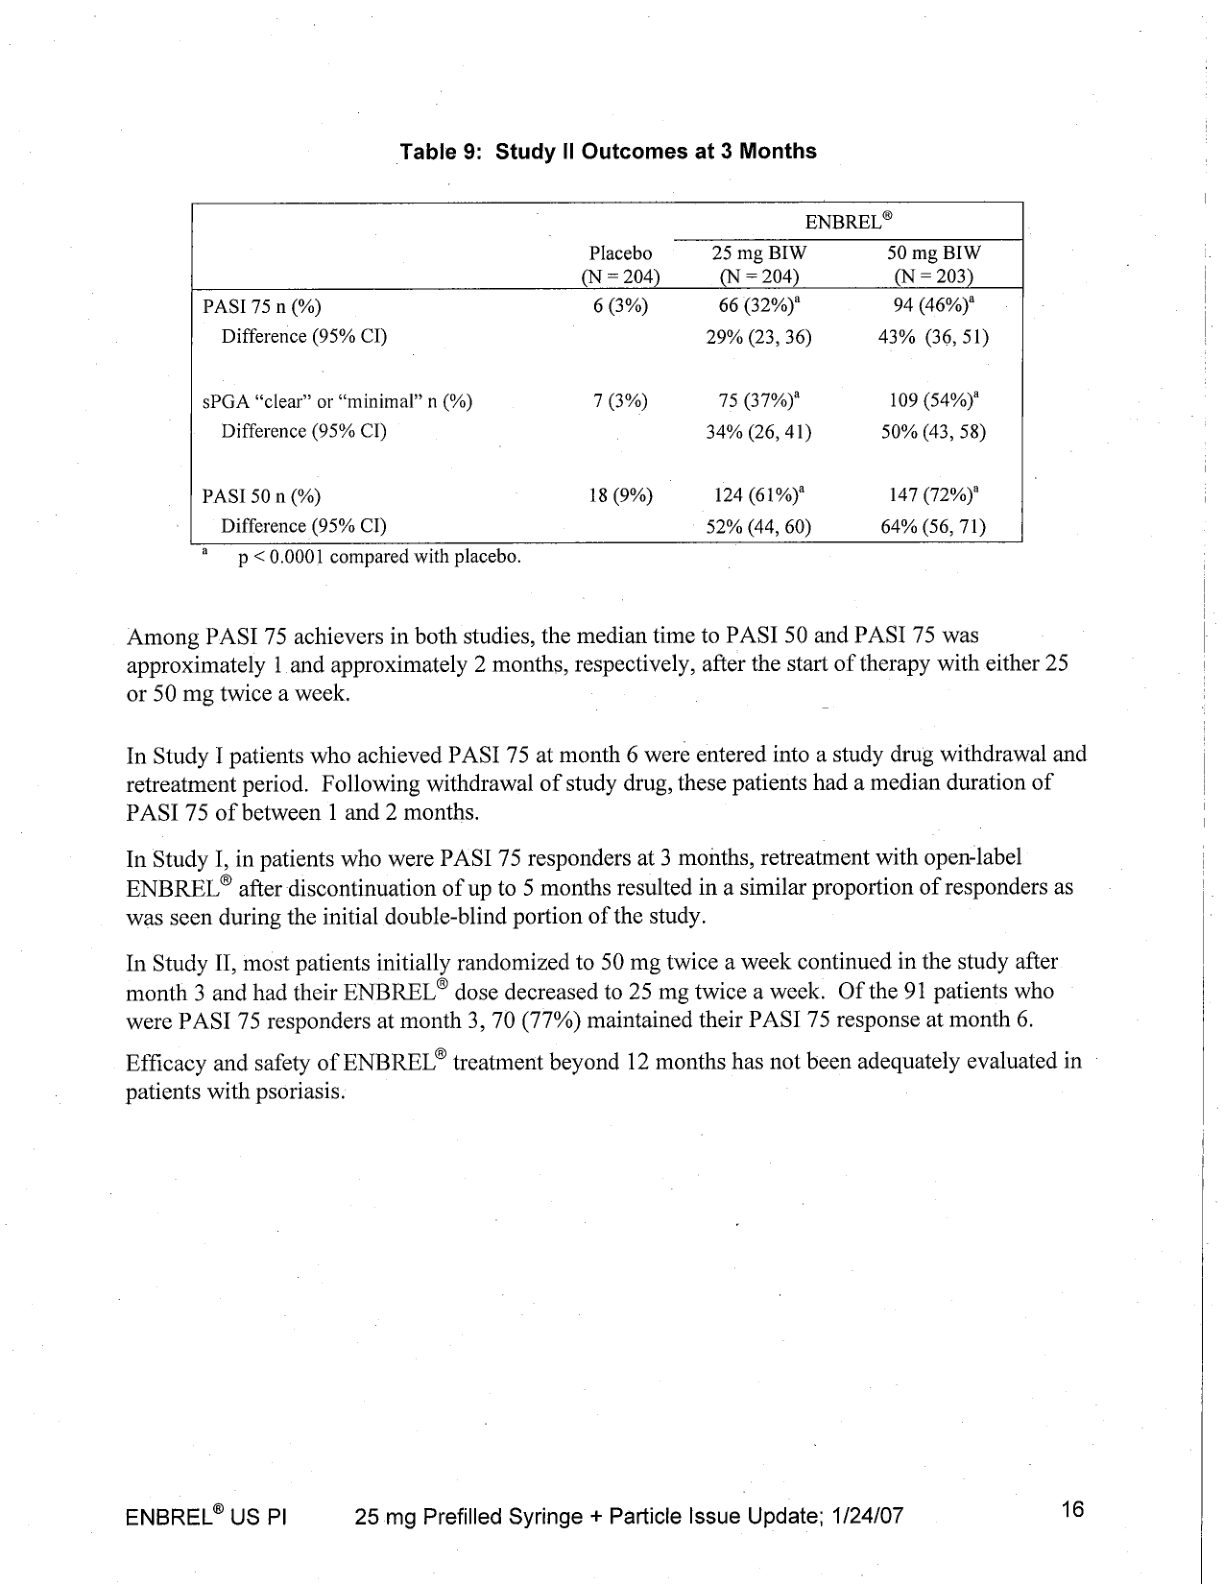partial_lined_merged_cells: (189, 201, 1025, 545)
